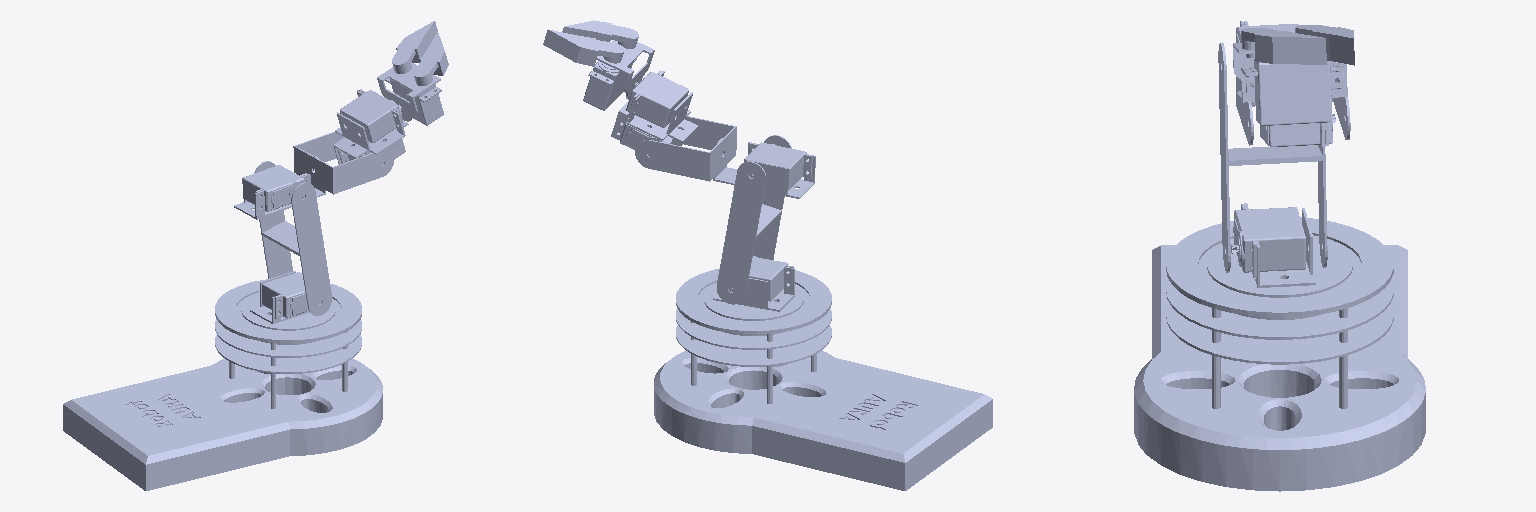
robot.urdf — Aura_robot:
<?xml version="1.0" encoding="utf-8"?>
<!-- This URDF was automatically created by SolidWorks to URDF Exporter! Originally created by [author] ([email redacted]) 
     Commit Version: 1.6.0-4-g7f85cfe  Build Version: 1.6.7995.38578
     For more information, please see http://wiki.ros.org/sw_urdf_exporter -->
<robot
  name="Aura_robot">
  <link
    name="base_link">
    <inertial>
      <origin
        xyz="0.077445 0.11132 0.20156"
        rpy="0 0 0" />
      <mass
        value="1.0167" />
      <inertia
        ixx="0.001835"
        ixy="1.2918E-06"
        ixz="2.9491E-07"
        iyy="0.0068512"
        iyz="-7.4114E-08"
        izz="0.0051708" />
    </inertial>
    <visual>
      <origin
        xyz="0 0 0"
        rpy="0 0 0" />
      <geometry>
        <mesh
          filename="package://Aura_robot/meshes/base_link.STL" />
      </geometry>
      <material
        name="">
        <color
          rgba="0.79216 0.81961 0.93333 1" />
      </material>
    </visual>
    <collision>
      <origin
        xyz="0 0 0"
        rpy="0 0 0" />
      <geometry>
        <mesh
          filename="package://Aura_robot/meshes/base_link.STL" />
      </geometry>
    </collision>
  </link>
  <link
    name="link_1">
    <inertial>
      <origin
        xyz="1.4647E-05 0.018092 0.0010409"
        rpy="0 0 0" />
      <mass
        value="0.15819" />
      <inertia
        ixx="6.1613E-05"
        ixy="2.1214E-09"
        ixz="-5.1761E-08"
        iyy="0.00010881"
        iyz="7.5578E-08"
        izz="6.2579E-05" />
    </inertial>
    <visual>
      <origin
        xyz="0 0 0"
        rpy="0 0 0" />
      <geometry>
        <mesh
          filename="package://Aura_robot/meshes/link_1.STL" />
      </geometry>
      <material
        name="">
        <color
          rgba="0.79216 0.81961 0.93333 1" />
      </material>
    </visual>
    <collision>
      <origin
        xyz="0 0 0"
        rpy="0 0 0" />
      <geometry>
        <mesh
          filename="package://Aura_robot/meshes/link_1.STL" />
      </geometry>
    </collision>
  </link>
  <joint
    name="joint_1"
    type="revolute">
    <origin
      xyz="0.13389 -0.20157 0.16797"
      rpy="1.5708 0 0.12516" />
    <parent
      link="base_link" />
    <child
      link="link_1" />
    <axis
      xyz="0 1 0" />
    <limit
      lower="-3.14"
      upper="3.14"
      effort="100"
      velocity="3" />
  </joint>
  <link
    name="link_2">
    <inertial>
      <origin
        xyz="0.048496 0.02011 0.004"
        rpy="0 0 0" />
      <mass
        value="0.01313" />
      <inertia
        ixx="9.796E-06"
        ixy="-3.9556E-06"
        ixz="1.7073E-20"
        iyy="1.7695E-05"
        iyz="-1.027E-20"
        izz="1.2521E-05" />
    </inertial>
    <visual>
      <origin
        xyz="0 0 0"
        rpy="0 0 0" />
      <geometry>
        <mesh
          filename="package://Aura_robot/meshes/link_2.STL" />
      </geometry>
      <material
        name="">
        <color
          rgba="0.79216 0.81961 0.93333 1" />
      </material>
    </visual>
    <collision>
      <origin
        xyz="0 0 0"
        rpy="0 0 0" />
      <geometry>
        <mesh
          filename="package://Aura_robot/meshes/link_2.STL" />
      </geometry>
    </collision>
  </link>
  <joint
    name="joint_2"
    type="revolute">
    <origin
      xyz="0.01 0.040197 0"
      rpy="0 0 1.3465" />
    <parent
      link="link_1" />
    <child
      link="link_2" />
    <axis
      xyz="0 0 1" />
    <limit
      lower="-3"
      upper="3"
      effort="100"
      velocity="3" />
  </joint>
  <link
    name="link_3">
    <inertial>
      <origin
        xyz="0.0022846 -0.0012213 0.0014929"
        rpy="0 0 0" />
      <mass
        value="0.042409" />
      <inertia
        ixx="9.2364E-06"
        ixy="-1.4625E-07"
        ixz="-5.1761E-08"
        iyy="1.5622E-05"
        iyz="7.5578E-08"
        izz="9.8257E-06" />
    </inertial>
    <visual>
      <origin
        xyz="0 0 0"
        rpy="0 0 0" />
      <geometry>
        <mesh
          filename="package://Aura_robot/meshes/link_3.STL" />
      </geometry>
      <material
        name="">
        <color
          rgba="0.79216 0.81961 0.93333 1" />
      </material>
    </visual>
    <collision>
      <origin
        xyz="0 0 0"
        rpy="0 0 0" />
      <geometry>
        <mesh
          filename="package://Aura_robot/meshes/link_3.STL" />
      </geometry>
    </collision>
  </link>
  <joint
    name="joint_3"
    type="revolute">
    <origin
      xyz="0.096991 0.04022 0"
      rpy="0 0 -1.3141" />
    <parent
      link="link_2" />
    <child
      link="link_3" />
    <axis
      xyz="0 0 1" />
    <limit
      lower="-3"
      upper="3"
      effort="100"
      velocity="3" />
  </joint>
  <link
    name="link_4">
    <inertial>
      <origin
        xyz="0.012429 -0.015197 -0.0030859"
        rpy="0 0 0" />
      <mass
        value="0.066899" />
      <inertia
        ixx="1.1055E-05"
        ixy="-7.2357E-08"
        ixz="9.5858E-08"
        iyy="1.7331E-05"
        iyz="7.2357E-08"
        izz="1.1055E-05" />
    </inertial>
    <visual>
      <origin
        xyz="0 0 0"
        rpy="0 0 0" />
      <geometry>
        <mesh
          filename="package://Aura_robot/meshes/link_4.STL" />
      </geometry>
      <material
        name="">
        <color
          rgba="0.79216 0.81961 0.93333 1" />
      </material>
    </visual>
    <collision>
      <origin
        xyz="0 0 0"
        rpy="0 0 0" />
      <geometry>
        <mesh
          filename="package://Aura_robot/meshes/link_4.STL" />
      </geometry>
    </collision>
  </link>
  <joint
    name="joint_4"
    type="revolute">
    <origin
      xyz="0.086605 0.0023025 0"
      rpy="3.1416 0 0.25822" />
    <parent
      link="link_3" />
    <child
      link="link_4" />
    <axis
      xyz="0 0 1" />
    <limit
      lower="-3"
      upper="3"
      effort="100"
      velocity="3" />
  </joint>
  <link
    name="gripper">
    <inertial>
      <origin
        xyz="0.034516 0.0072825 -0.0068125"
        rpy="0 0 0" />
      <mass
        value="0.052377" />
      <inertia
        ixx="9.5021E-06"
        ixy="-6.3691E-08"
        ixz="1.6795E-06"
        iyy="1.0667E-05"
        iyz="-4.0537E-08"
        izz="8.5903E-06" />
    </inertial>
    <visual>
      <origin
        xyz="0 0 0"
        rpy="0 0 0" />
      <geometry>
        <mesh
          filename="package://Aura_robot/meshes/gripper.STL" />
      </geometry>
      <material
        name="">
        <color
          rgba="0.79216 0.81961 0.93333 1" />
      </material>
    </visual>
    <collision>
      <origin
        xyz="0 0 0"
        rpy="0 0 0" />
      <geometry>
        <mesh
          filename="package://Aura_robot/meshes/gripper.STL" />
      </geometry>
    </collision>
  </link>
  <joint
    name="gripper_joint"
    type="revolute">
    <origin
      xyz="0.032619 -0.030395 -0.014"
      rpy="-3.139 0 0" />
    <parent
      link="link_4" />
    <child
      link="gripper" />
    <axis
      xyz="1 0 0" />
    <limit
      lower="-3.14"
      upper="3.14"
      effort="100"
      velocity="3" />
  </joint>
</robot>

--- Render facts (derived) ---
3 views of the same robot in one strip: view 1: azimuth 30°, elevation 25°; view 2: azimuth 150°, elevation 25°; view 3: azimuth 270°, elevation 25° (orthographic).
Model Aura_robot with 6 links and 5 joints (5 revolute), rooted at base_link, posed all joints at 0.
Visible links, largest first — view 1: base_link, link_3, link_2, gripper, link_4, link_1; view 2: base_link, link_3, link_2, gripper, link_4, link_1; view 3: base_link, gripper, link_1, link_2, link_4, link_3.
Boxes of the visible links, box(x1,y1,x2,y2) form: base_link: box(63, 279, 382, 490); link_3: box(234, 132, 393, 219); link_2: box(254, 161, 331, 315); gripper: box(377, 21, 448, 125); link_4: box(333, 89, 408, 165); link_1: box(241, 271, 335, 344); base_link: box(654, 268, 992, 490); link_3: box(635, 116, 815, 198); link_2: box(717, 135, 791, 304); gripper: box(543, 20, 654, 110); link_4: box(611, 70, 697, 156); link_1: box(704, 256, 803, 335); base_link: box(1134, 217, 1425, 491); gripper: box(1233, 25, 1354, 125); link_1: box(1207, 203, 1352, 319); link_2: box(1218, 43, 1327, 272); link_4: box(1236, 58, 1347, 146); link_3: box(1236, 21, 1350, 145).
Size in the robot's own frame: 0.3507 by 0.16 by 0.3143 metres.
Meshes: 6 distinct files referenced, 6 mesh visuals loaded (6 binary STL).